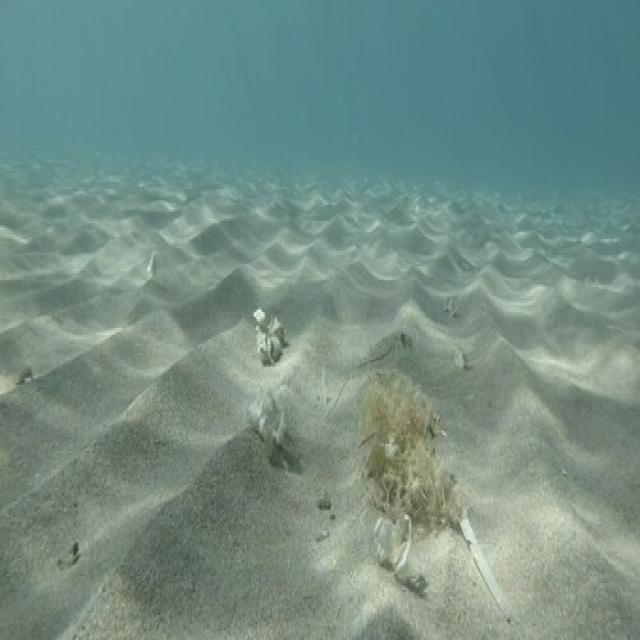Balik: (337, 330, 412, 398)
